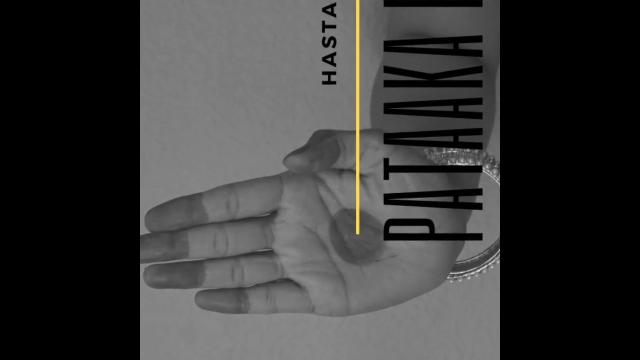pataka: (140, 116, 473, 338)
